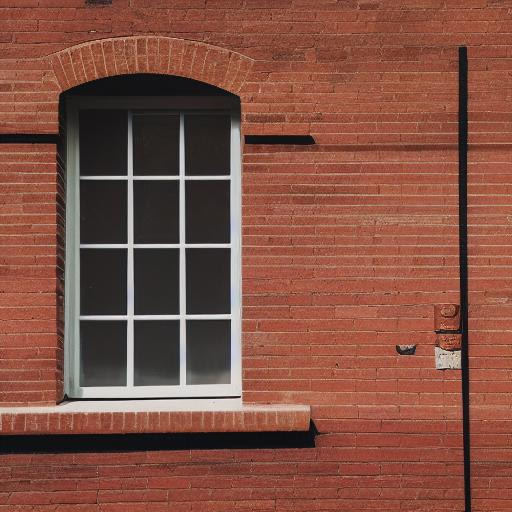Window: (1, 33, 315, 439)
